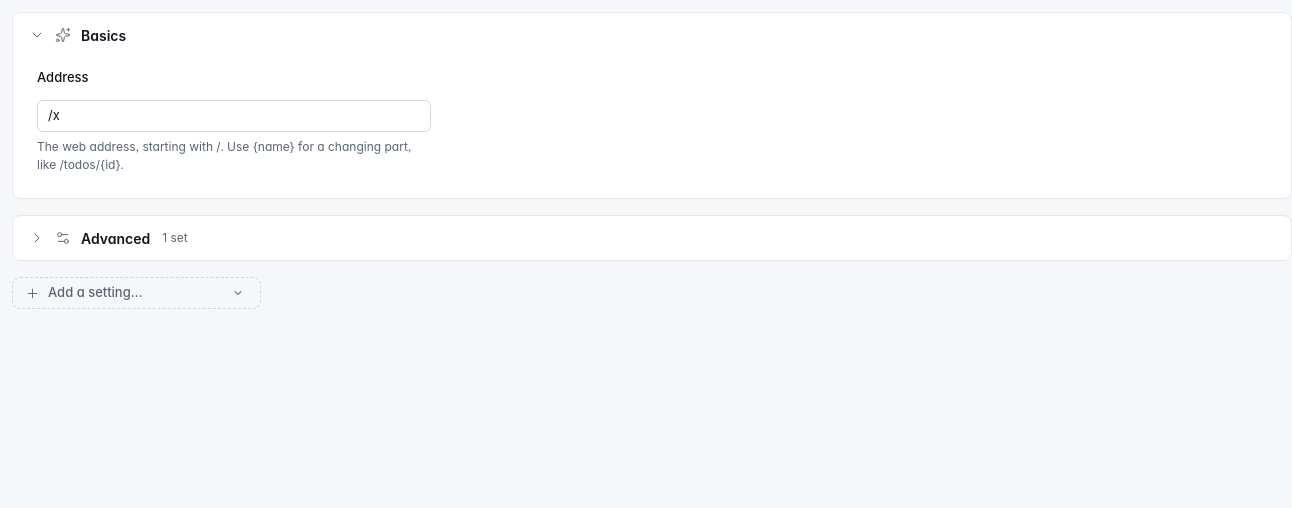
Test case: sections › keeps advanced settings collapsed until opened
Click the button "Advanced 1 set" at (116,238), box [13,216,1283,260]
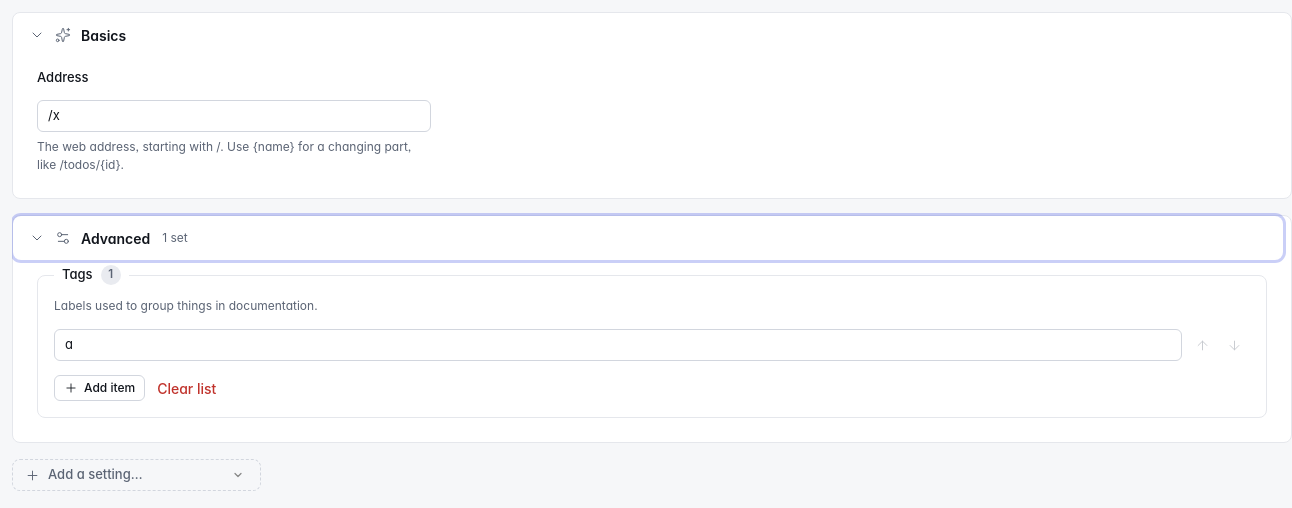
expect the element that starts with "Tags" is shown: met, box [37,265,1267,418]
